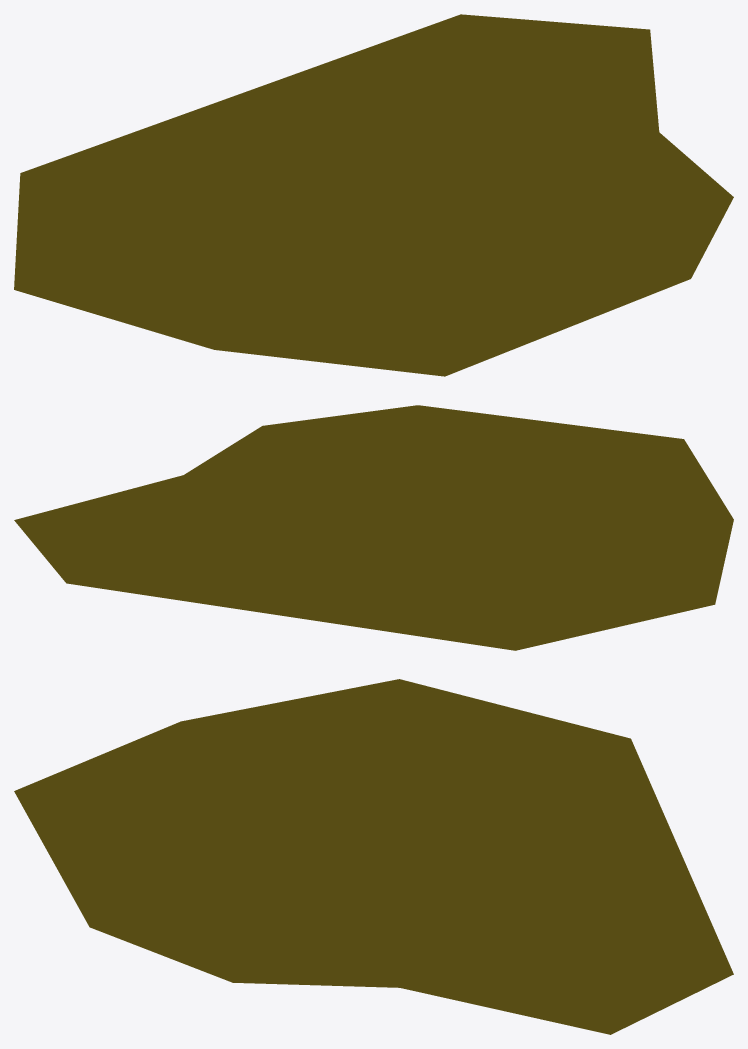
The picture shows the model from 3 angles, top to bottom: view 1: azimuth 30°, elevation 25°; view 2: azimuth 150°, elevation 25°; view 3: azimuth 270°, elevation 25°; orthographic projection. The views are drawn at different scales.
Visible parts, largest first — view 1: Mesh; view 2: Mesh; view 3: Mesh.
Part boxes in pixels (x1,y1,x2,y2): Mesh: (14, 14, 733, 376); Mesh: (14, 405, 733, 650); Mesh: (14, 679, 733, 1034).
Size of the model in its own units: 4234 by 0 by 3620.
